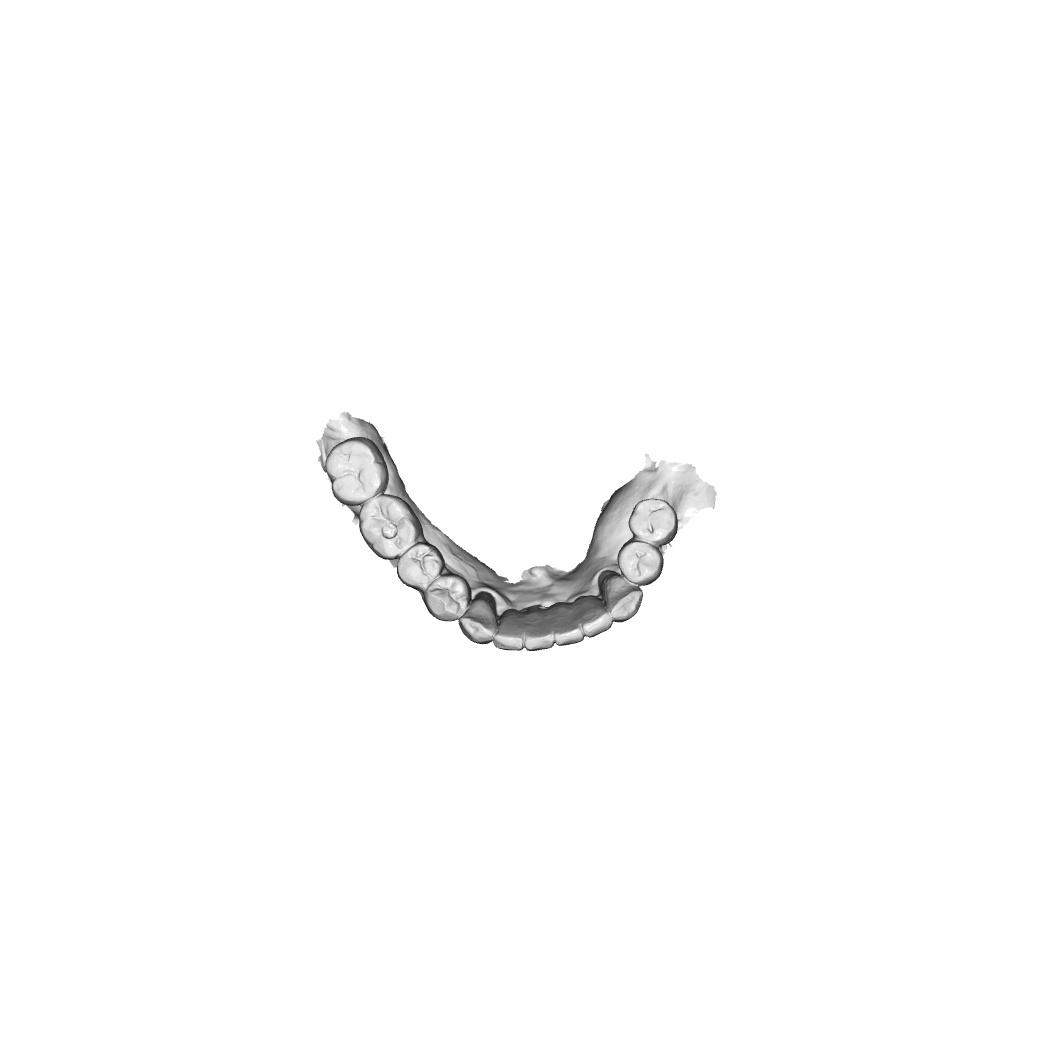canine: (597, 570, 644, 624), (458, 590, 499, 646)
incisor: (575, 595, 614, 638), (493, 608, 525, 653), (524, 606, 555, 652), (554, 601, 585, 646)
molar: (325, 436, 389, 506), (359, 494, 424, 560)
premolar: (627, 498, 679, 548), (397, 540, 446, 591), (424, 573, 472, 622), (617, 539, 664, 587)
